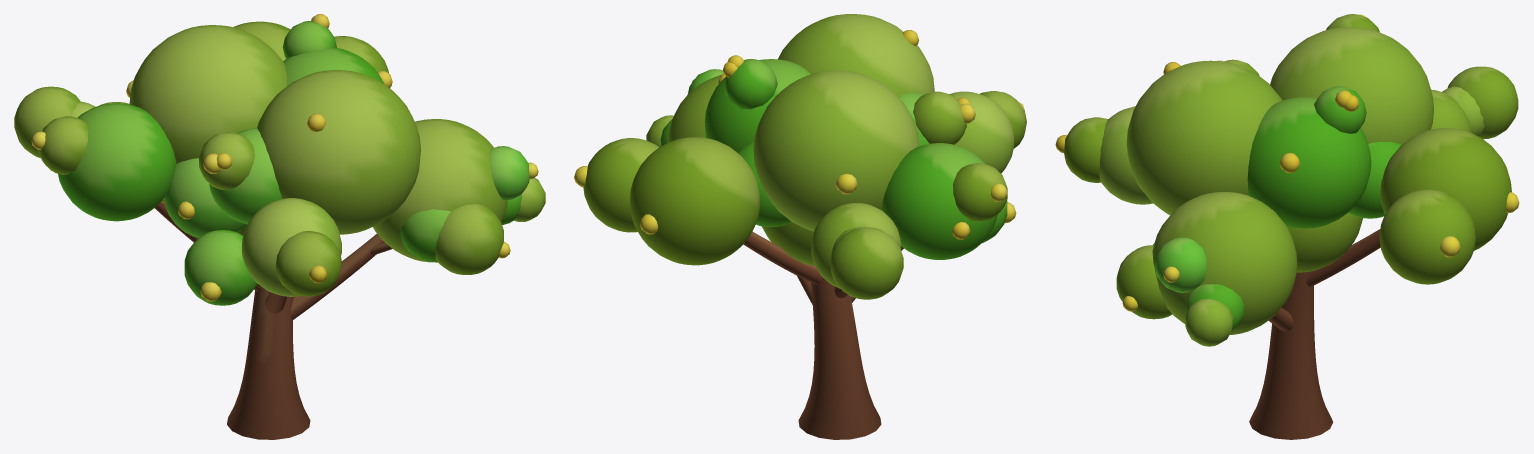
The model's file is orchard-tree-1.obj.
3 renders of one model, left to right at view 1: azimuth 30°, elevation 25°; view 2: azimuth 150°, elevation 25°; view 3: azimuth 270°, elevation 25°, orthographic.
Parts seen in each view (by area): view 1: tree; view 2: tree; view 3: tree.
Boxes of the visible parts, <box> form: tree: <box>14,14,545,439</box>; tree: <box>574,14,1026,439</box>; tree: <box>1055,14,1519,439</box>.
Bounding box in the file's own units: 483 × 399 × 448.
